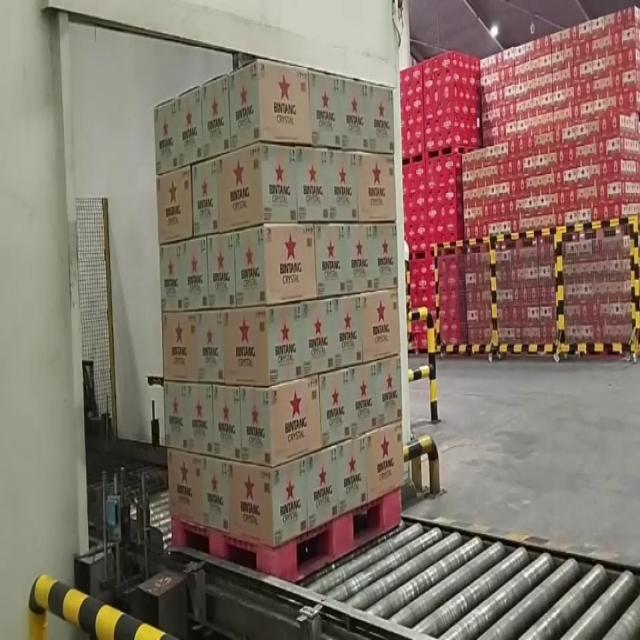pallet: (147, 50, 414, 595)
